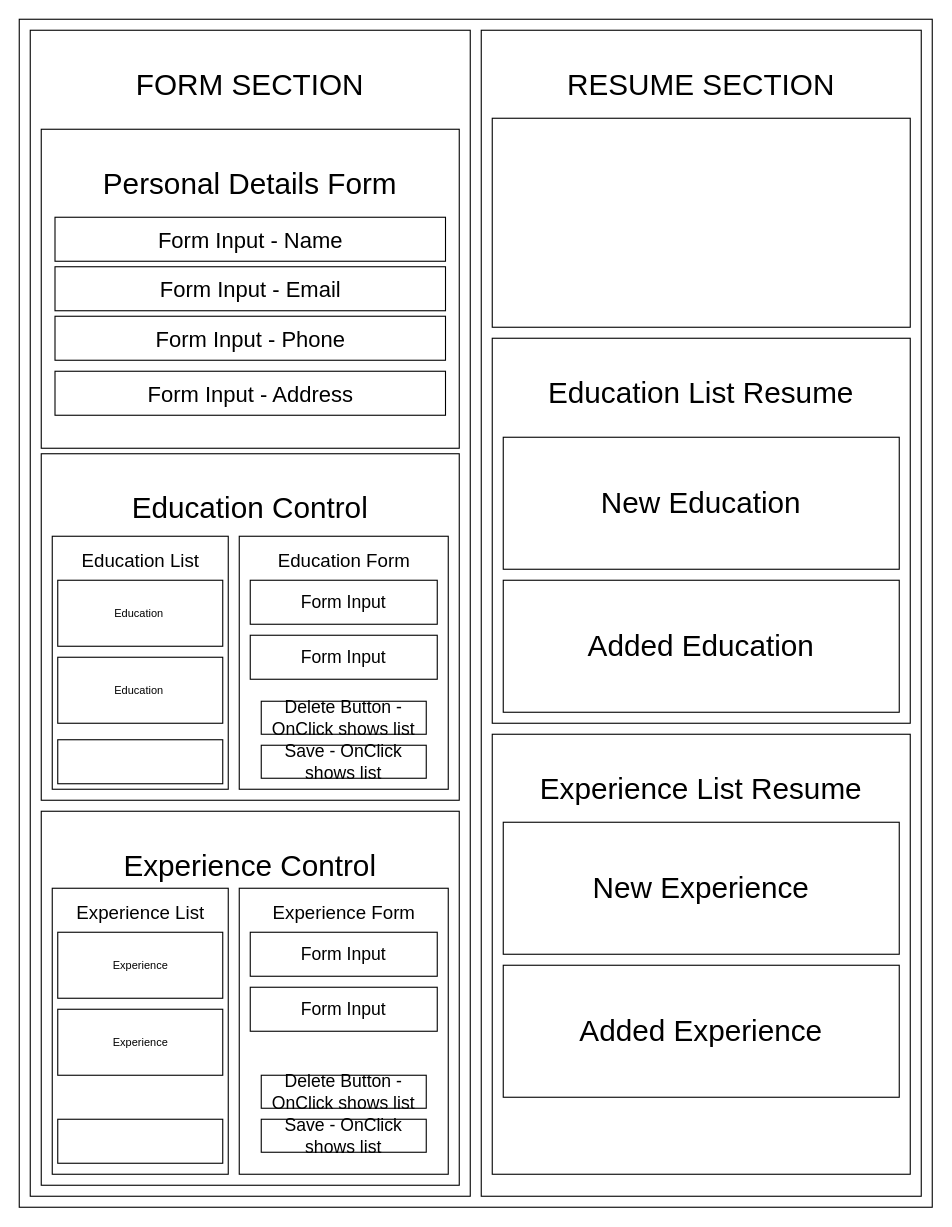
The diagram is 952 pixels wide and 1227 high, and some of its shapes have lost their labels. Each missing label, with the centre of its shape:
"Add Education - OnClick shows blank form" goes at (x=140, y=761).
"Add Experience - OnClick shows blank form" goes at (x=140, y=1140).
"Personal Details Section" goes at (x=700, y=222).
